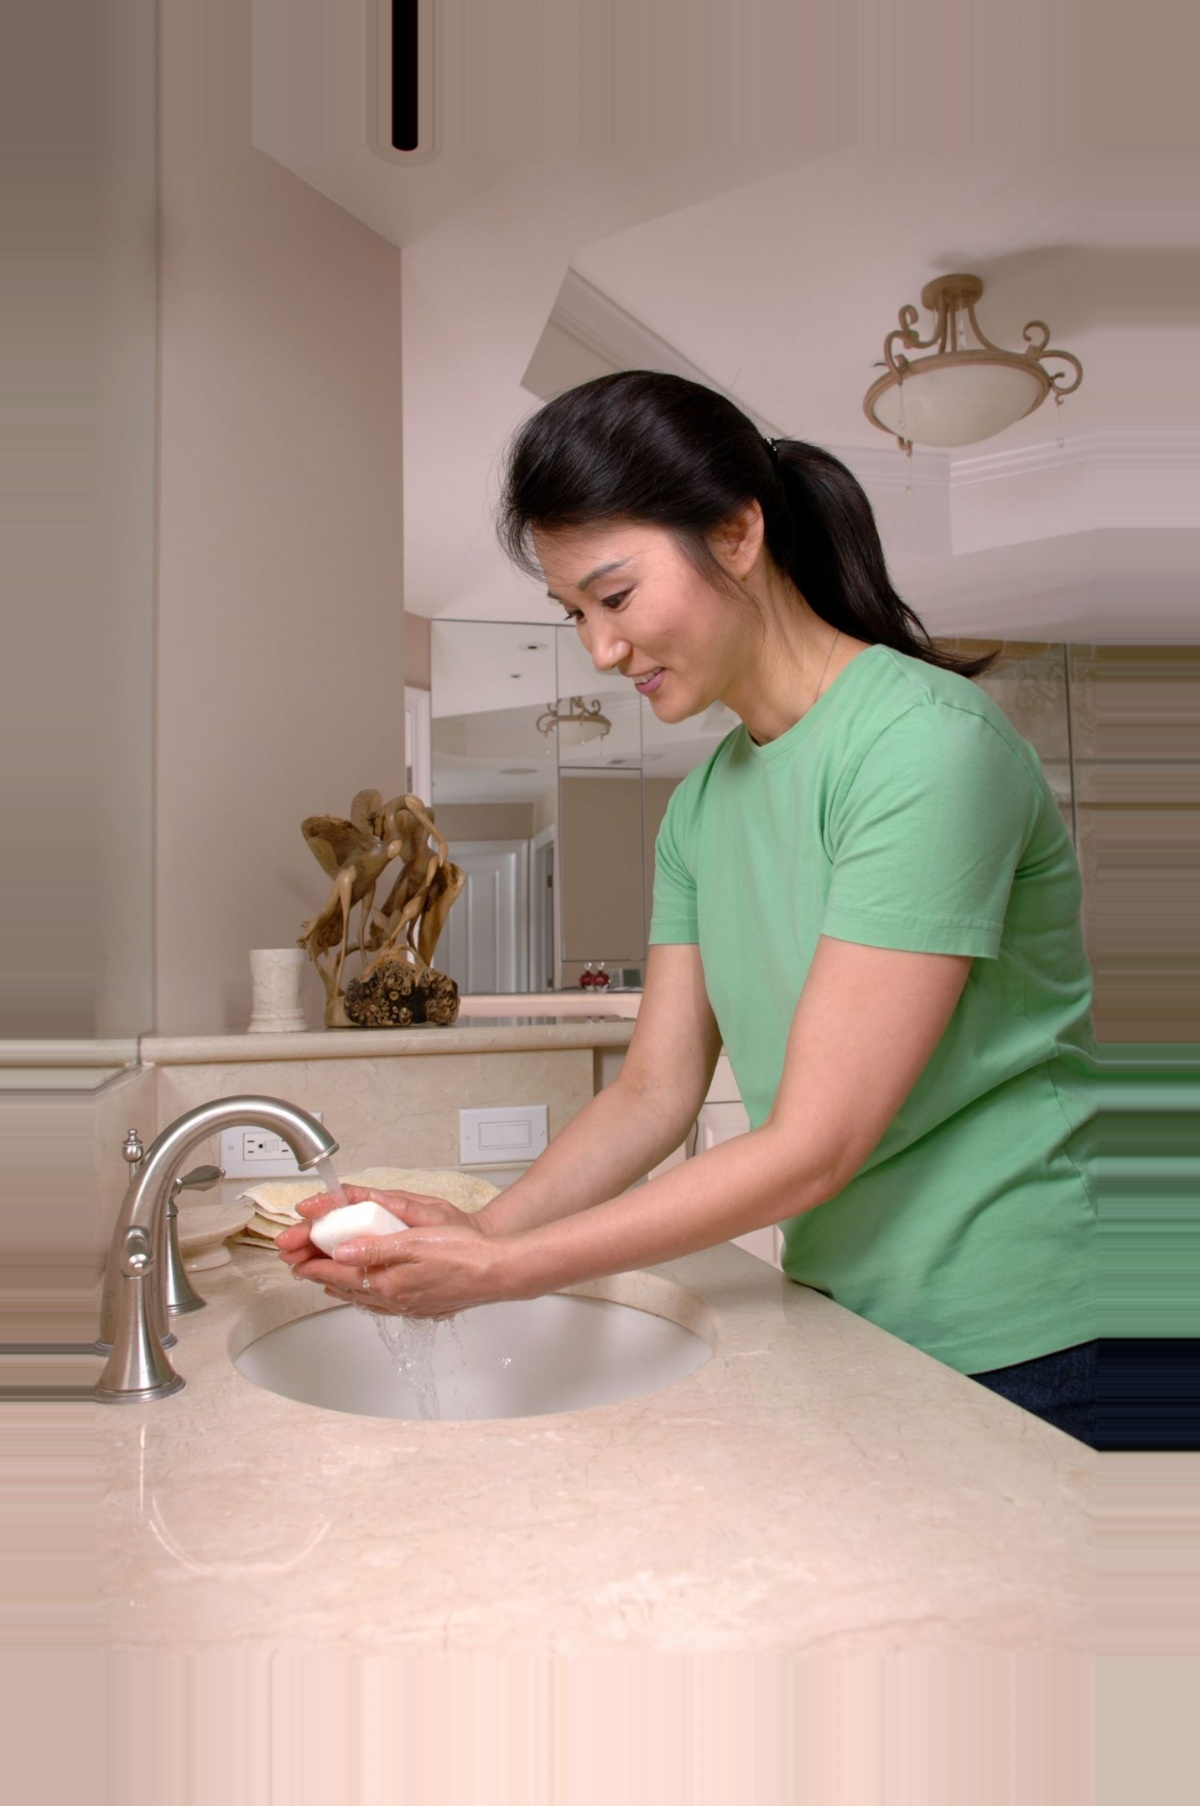washing hand: (112, 1043, 510, 1404)
